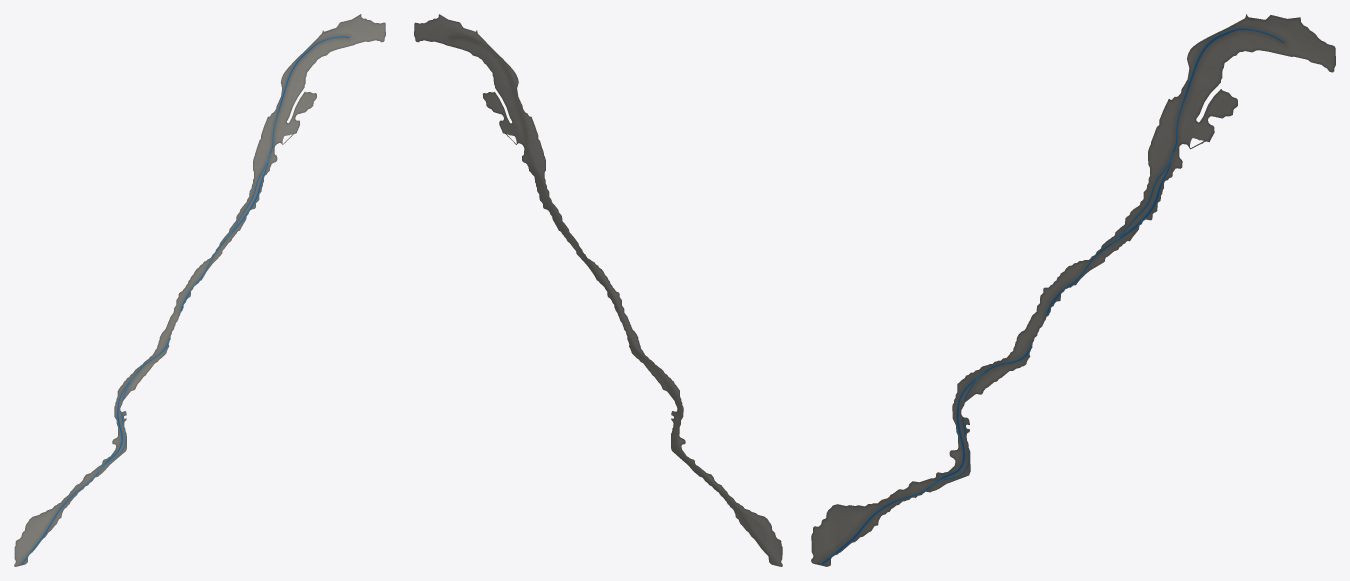
Rendered from river-ribbon.glb.
3 renders of one model, left to right at view 1: azimuth 30°, elevation 25°; view 2: azimuth 150°, elevation 25°; view 3: azimuth 330°, elevation 25°, orthographic. The views are drawn at different scales.
Parts seen in each view (by area): view 1: river-bed, river-threads; view 2: river-bed; view 3: river-bed, river-threads.
Boxes of the visible parts, x1,y1,x2,y2 form: river-bed: [14, 14, 385, 566]; river-threads: [20, 36, 349, 565]; river-bed: [414, 14, 782, 566]; river-bed: [811, 14, 1335, 566]; river-threads: [819, 28, 1284, 565].
Bounding box in the file's own units: 3037 × 3677 × 17.04.
